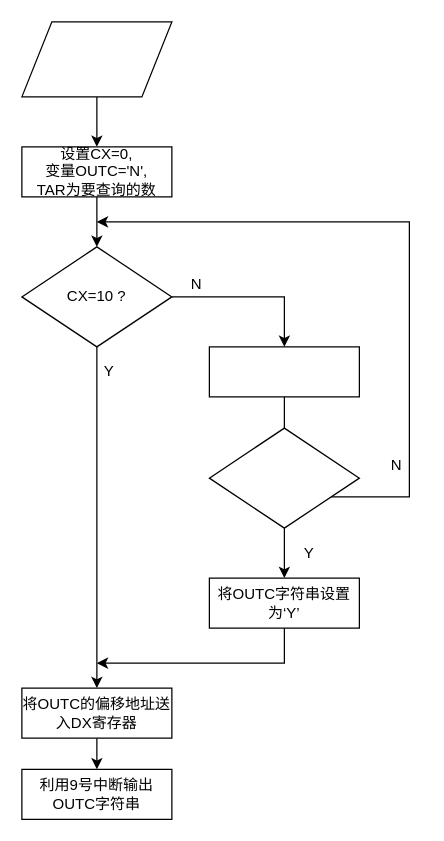
This 444x841 diagram has some shape labels left out. Here are the shapes that lost their labels. From the top down, the centre of each, then its label:
the point at 96,59: 利用程序1将 数据进行排序
the point at 283,371: 从ARRAY中传送 一个字到AX
the point at 283,477: AX = TAR？
